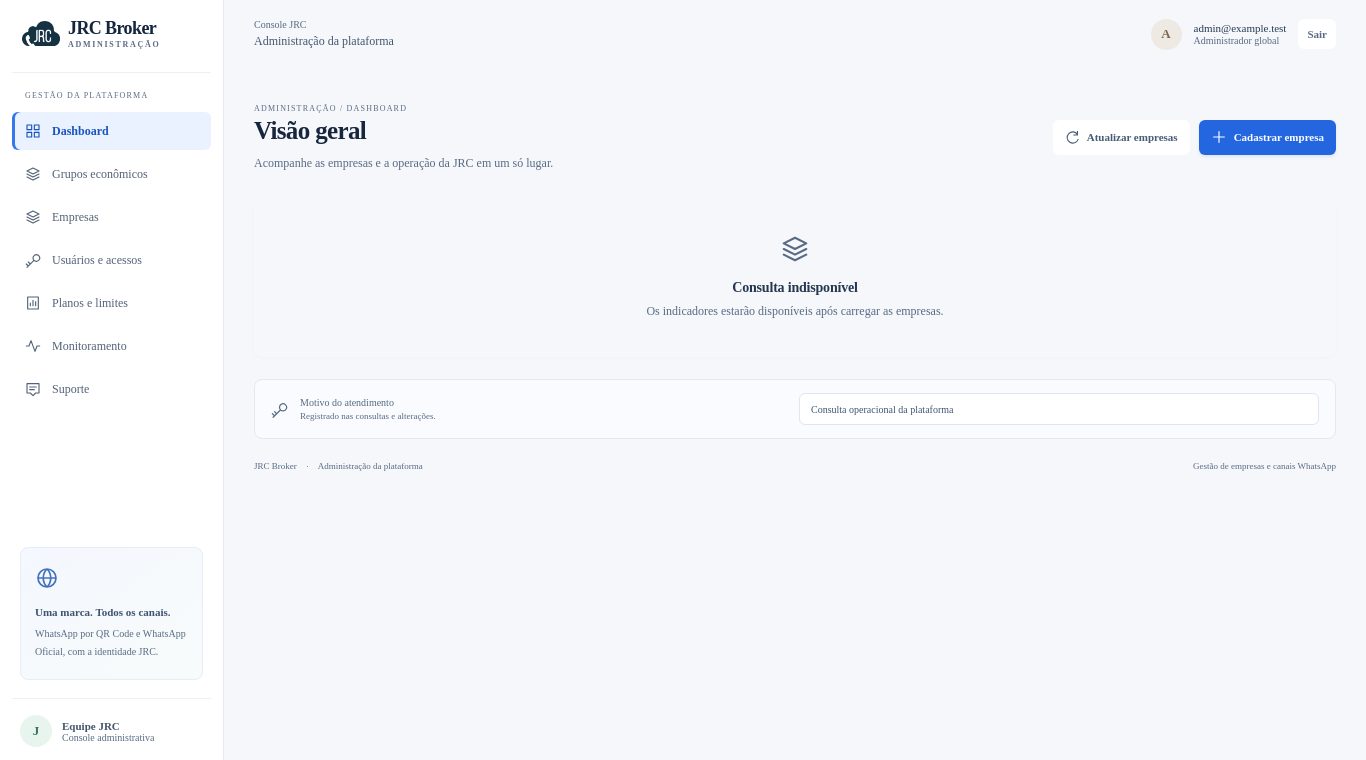
Test: creates a company with its owner and limits using the audited admin endpoint
Click the button "Cadastrar empresa".
click(1267, 138)  # box left=1199, top=120, right=1336, bottom=155
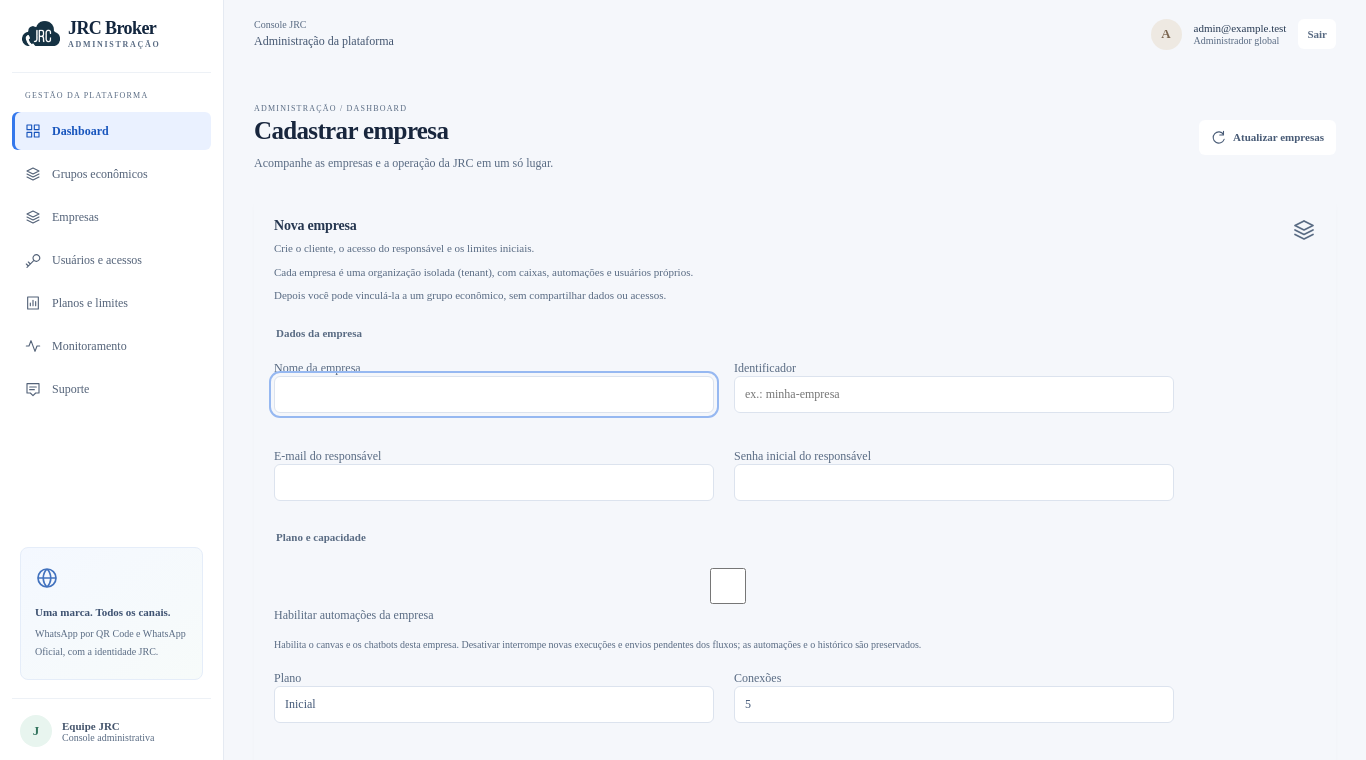
Expected: the text "Cada empresa é uma organização isolada" is shown, left=274, top=266, right=693, bottom=278
Type "Nova Empresa" into the field labelled "Nome da empresa".
click(494, 394); type("Nova Empresa")  # box left=274, top=376, right=714, bottom=413
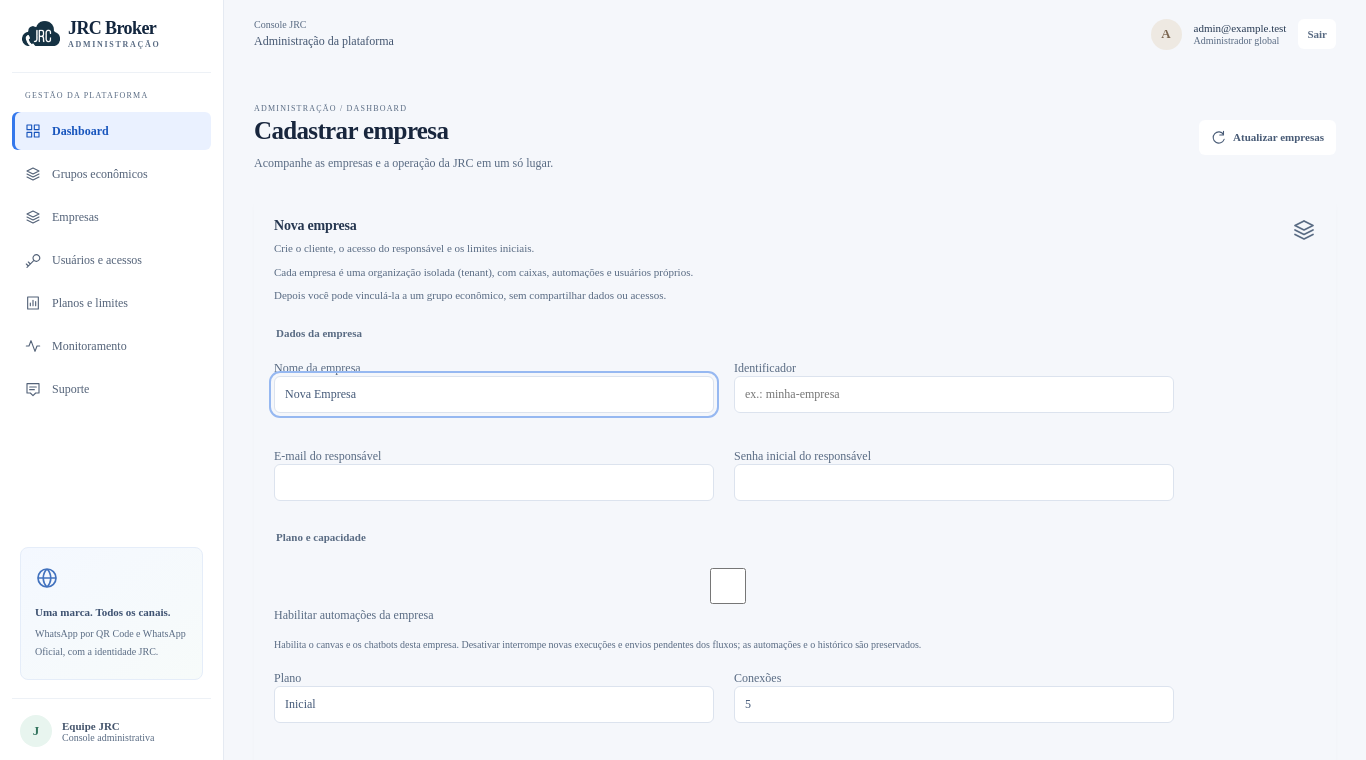
Type "nova-empresa" into the field labelled "Identificador".
click(954, 394); type("nova-empresa")  # box left=734, top=376, right=1174, bottom=413
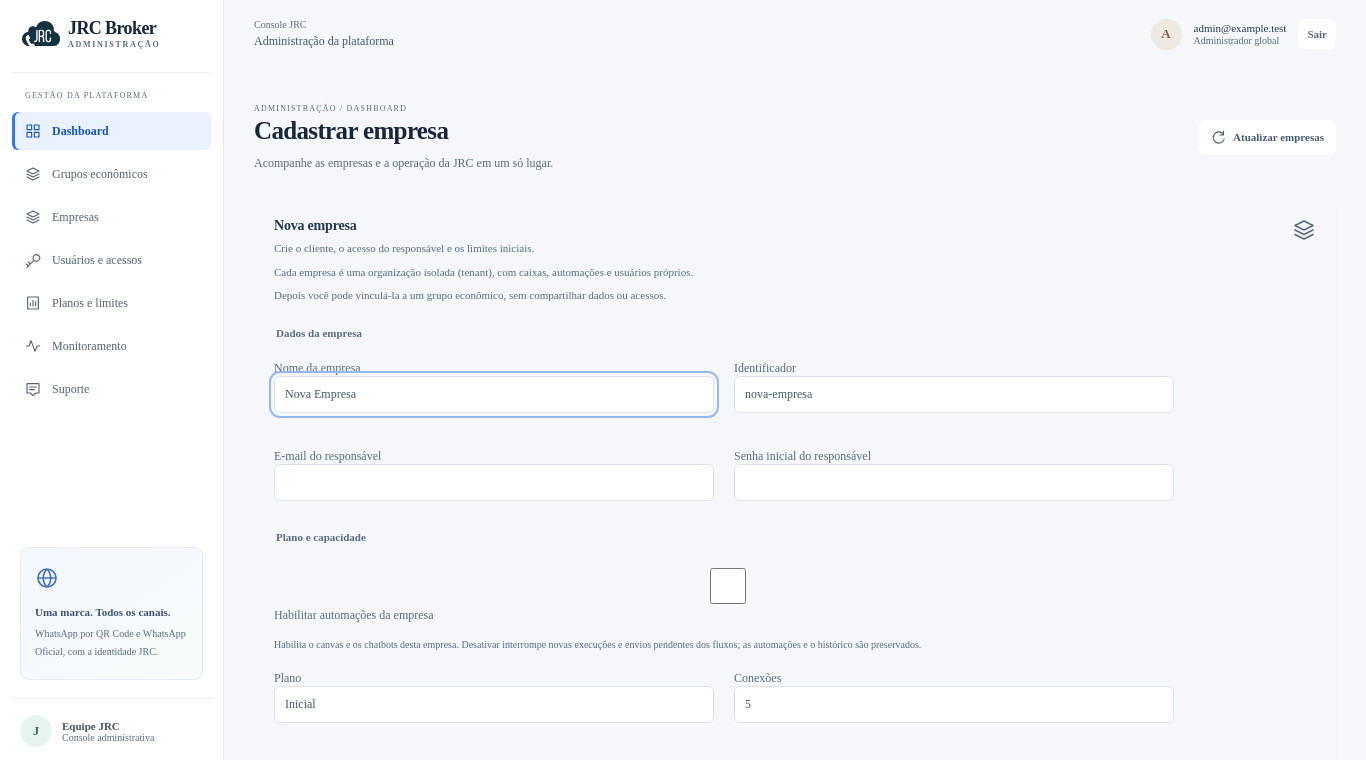
Type "new-owner@example.test" into the field labelled "E-mail do responsável".
click(494, 482); type("new-owner@example.test")  # box left=274, top=464, right=714, bottom=501
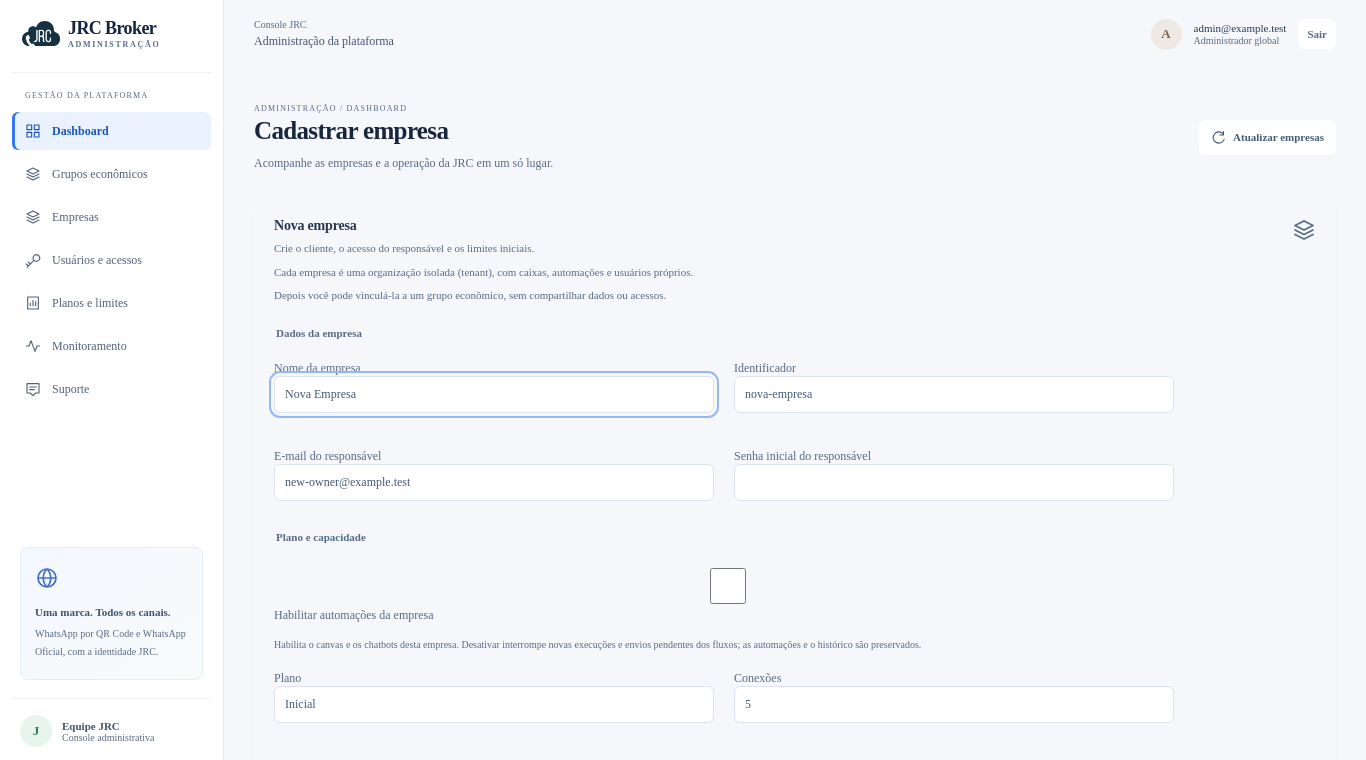
Type "synthetic-test-password" into the password field labelled "Senha inicial do responsável".
click(954, 482); type("synthetic-test-password")  # box left=734, top=464, right=1174, bottom=501
(page scrolled)
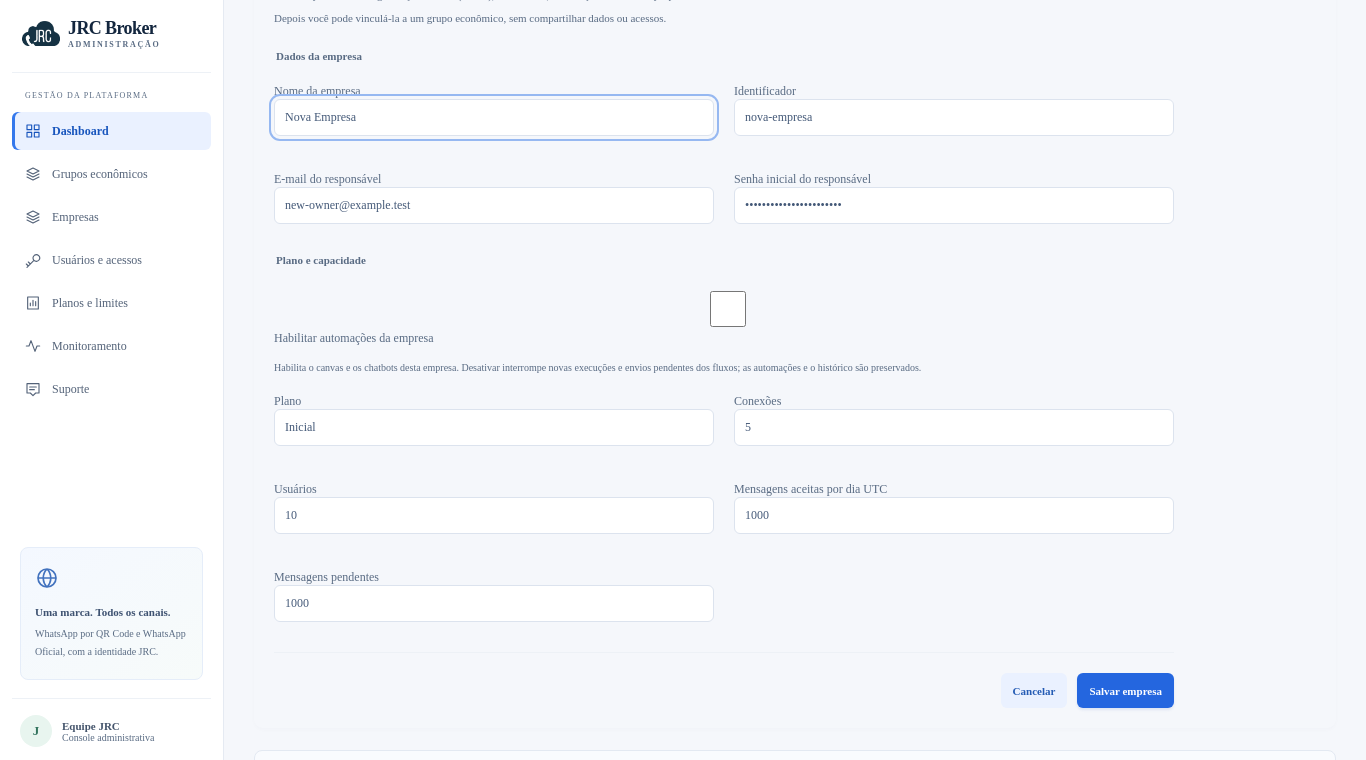
Submit the form named "Salvar empresa", box left=274, top=50, right=1174, bottom=708
(page scrolled)
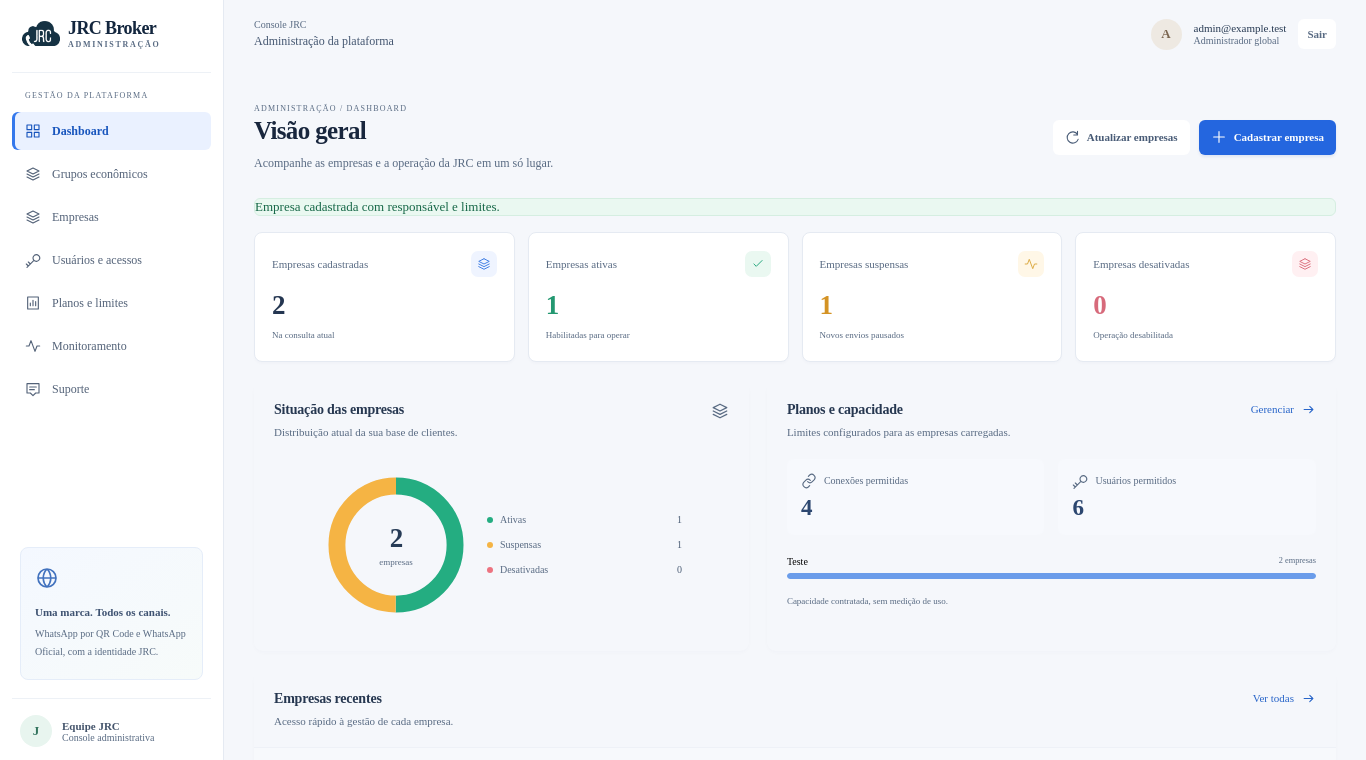
Expected: the text "Empresa cadastrada com responsável e limites." is shown, left=254, top=198, right=1336, bottom=216
